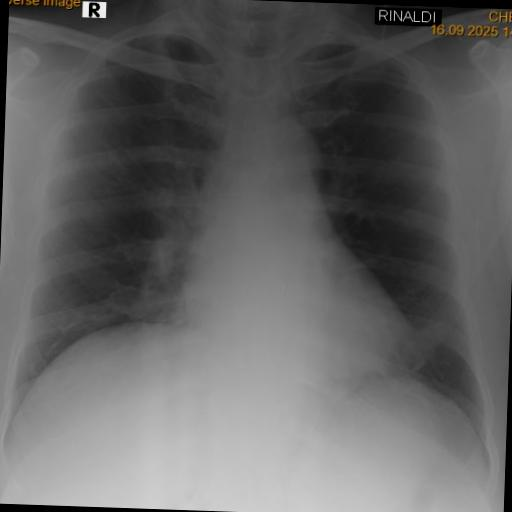kardiomegali: (0, 9, 512, 475)
